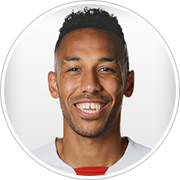smile: (72, 99, 109, 118)
